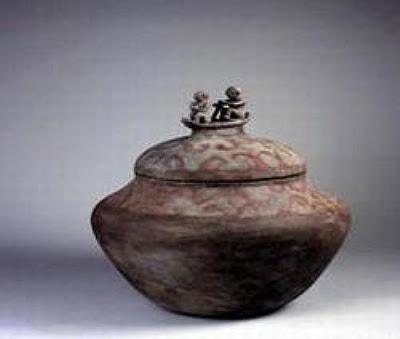manunggul_jar: (82, 66, 358, 325)
